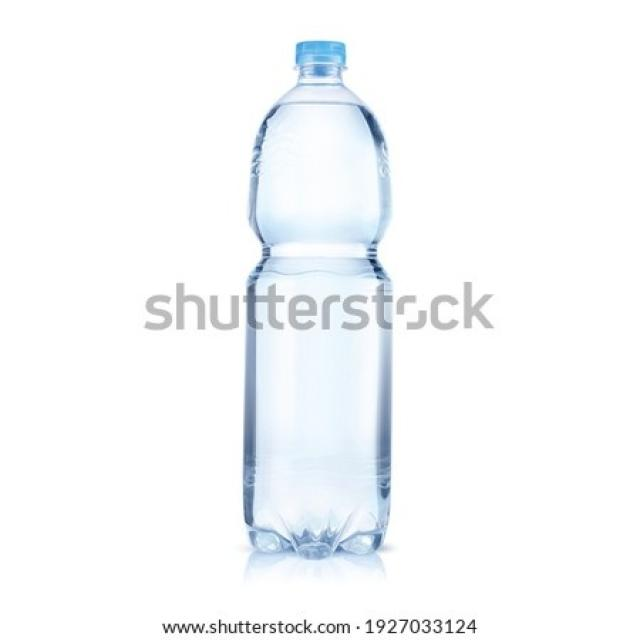plastic_bottle: (241, 39, 395, 559)
